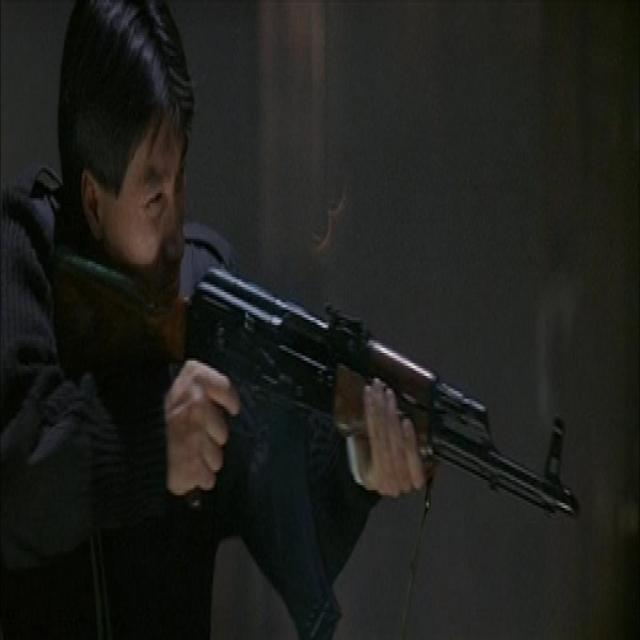rifle: (55, 249, 581, 548)
